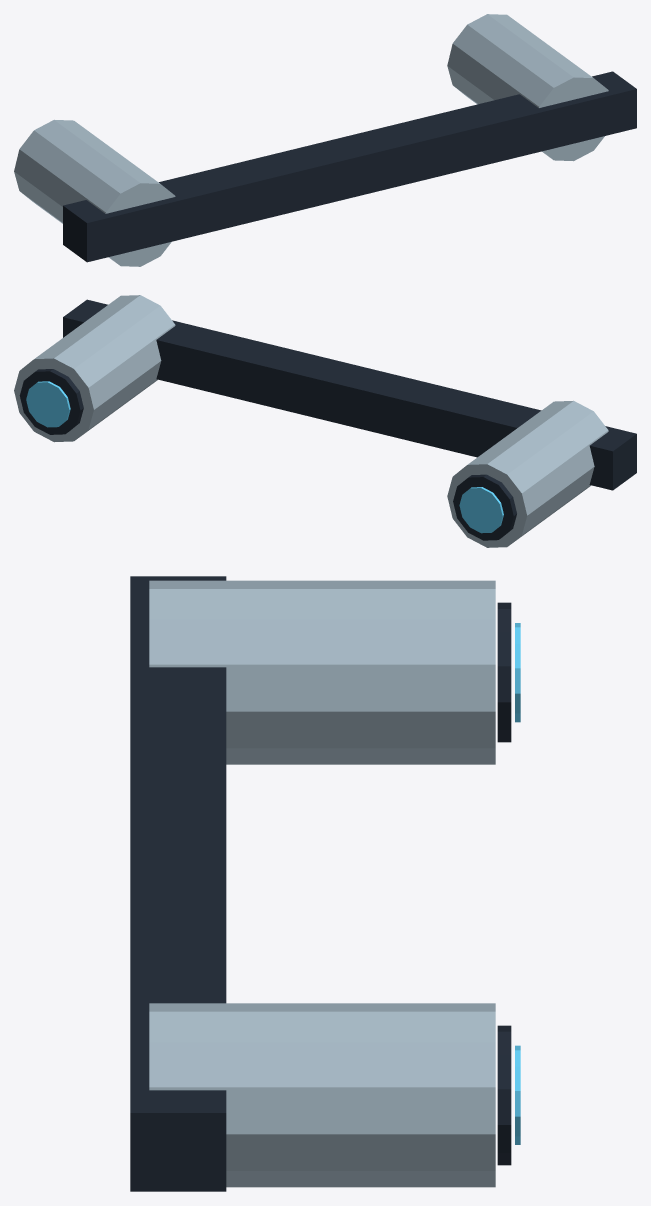
File: ion.glb
3 renders of one model, top to bottom at view 1: azimuth 30°, elevation 25°; view 2: azimuth 150°, elevation 25°; view 3: azimuth 270°, elevation 25°, orthographic. The views are drawn at different scales.
Visible parts, largest first — view 1: EffectAccessory; view 2: EffectAccessory; view 3: EffectAccessory.
Boxes of the visible parts, x1=… form: EffectAccessory: x1=14, y1=14, x2=636, y2=266; EffectAccessory: x1=14, y1=295, x2=636, y2=547; EffectAccessory: x1=130, y1=576, x2=520, y2=1191.
Bounding box in the file's own units: 0.66 × 0.096 × 0.203.
